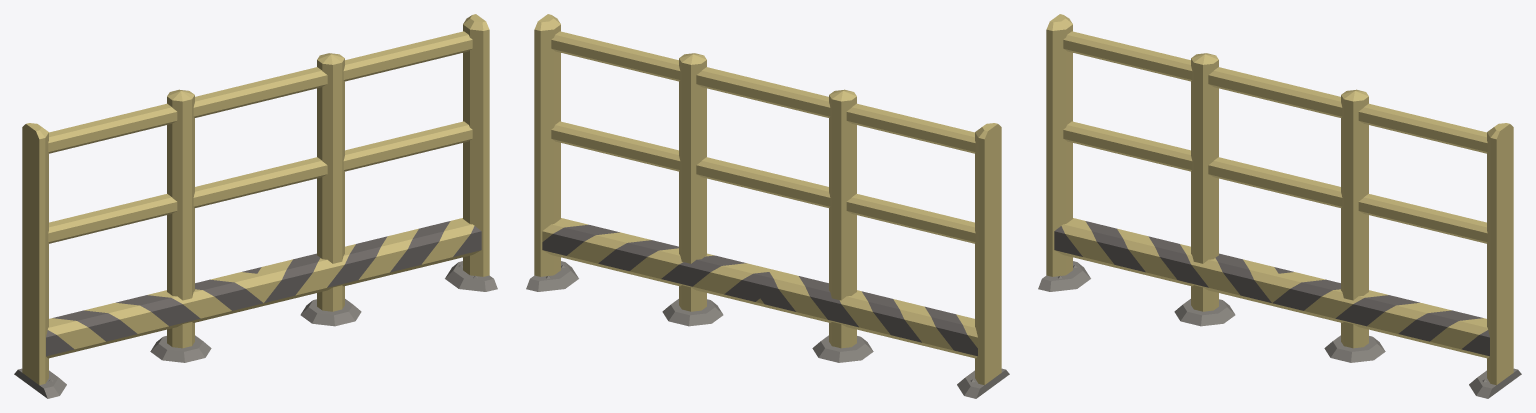
The model's file is barrier.glb.
The picture shows the model from 3 angles, left to right: view 1: azimuth 30°, elevation 25°; view 2: azimuth 150°, elevation 25°; view 3: azimuth 330°, elevation 25°; orthographic projection.
Visible parts, largest first — view 1: barrier; view 2: barrier; view 3: barrier.
Part boxes in pixels (x1,y1,x2,y2): barrier: (14,14,497,398); barrier: (526,14,1009,398); barrier: (1038,14,1521,398).
Size of the model in its own units: 2 by 1.1 by 0.26.
